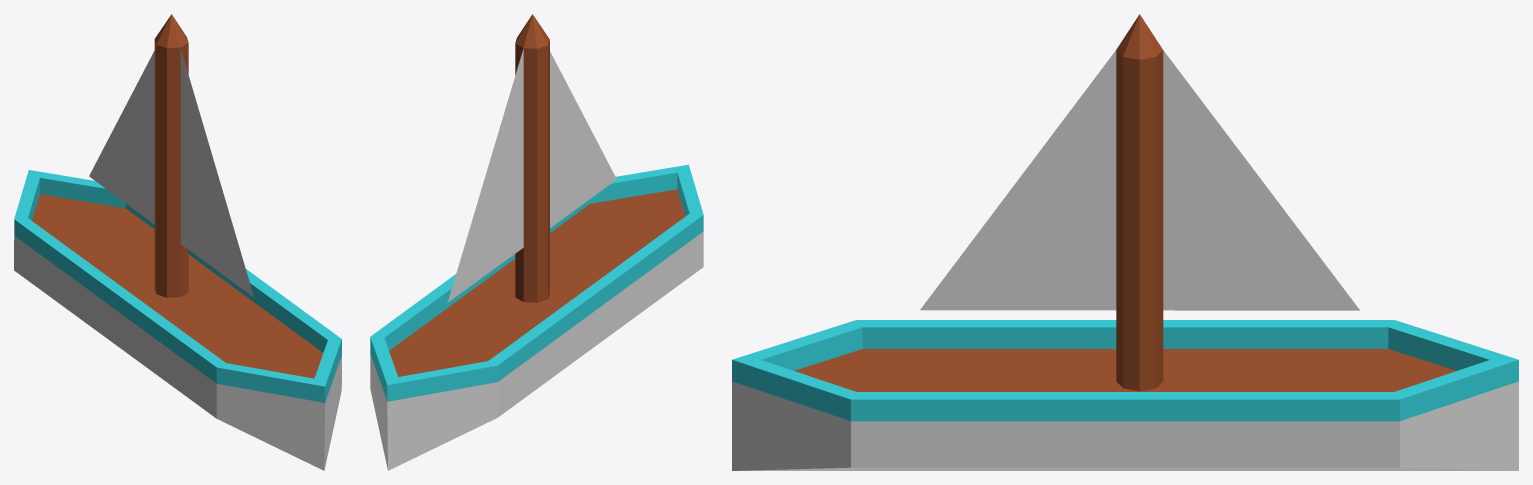
Rendered from Barco.fbx.
The picture shows the model from 3 angles, left to right: view 1: azimuth 30°, elevation 25°; view 2: azimuth 150°, elevation 25°; view 3: azimuth 270°, elevation 25°; orthographic projection. The views are drawn at different scales.
Visible parts, largest first — view 1: Barco; view 2: Barco; view 3: Barco.
Part boxes in pixels (x1,y1,x2,y2): Barco: [14, 14, 341, 470]; Barco: [370, 14, 703, 470]; Barco: [732, 14, 1518, 470].
Bounding box in the file's own units: 0.0662 × 0.1771 × 0.2762.
